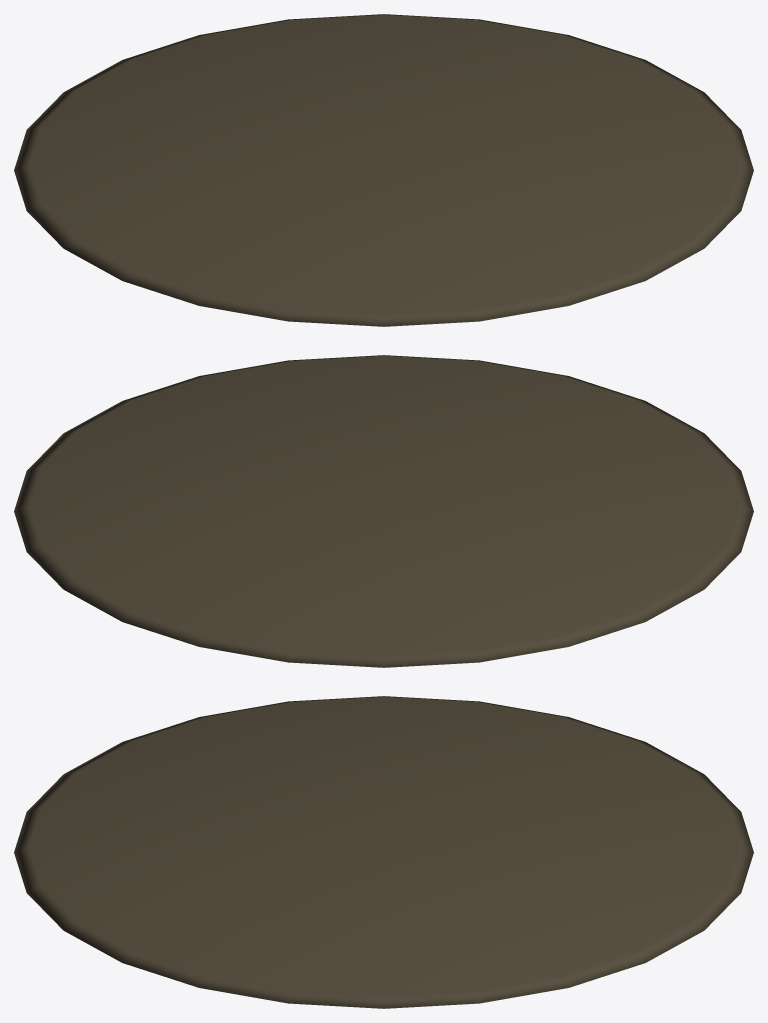
Rendered from tile_ruins.glb.
The picture shows the model from 3 angles, top to bottom: view 1: azimuth 30°, elevation 25°; view 2: azimuth 150°, elevation 25°; view 3: azimuth 270°, elevation 25°; orthographic projection.
Visible parts, largest first — view 1: tile_ruins.glb; view 2: tile_ruins.glb; view 3: tile_ruins.glb.
Part boxes in pixels (left/top/right/bottom): tile_ruins.glb: left=14, top=14, right=753, bottom=326; tile_ruins.glb: left=14, top=355, right=753, bottom=667; tile_ruins.glb: left=14, top=696, right=753, bottom=1008.
Bounding box in the file's own units: 9.6 × 0.16 × 9.6.
Materials: 1 (1 with a texture image).
